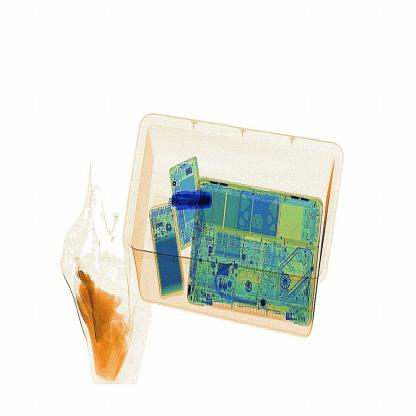scissors: (166, 181, 222, 217)
